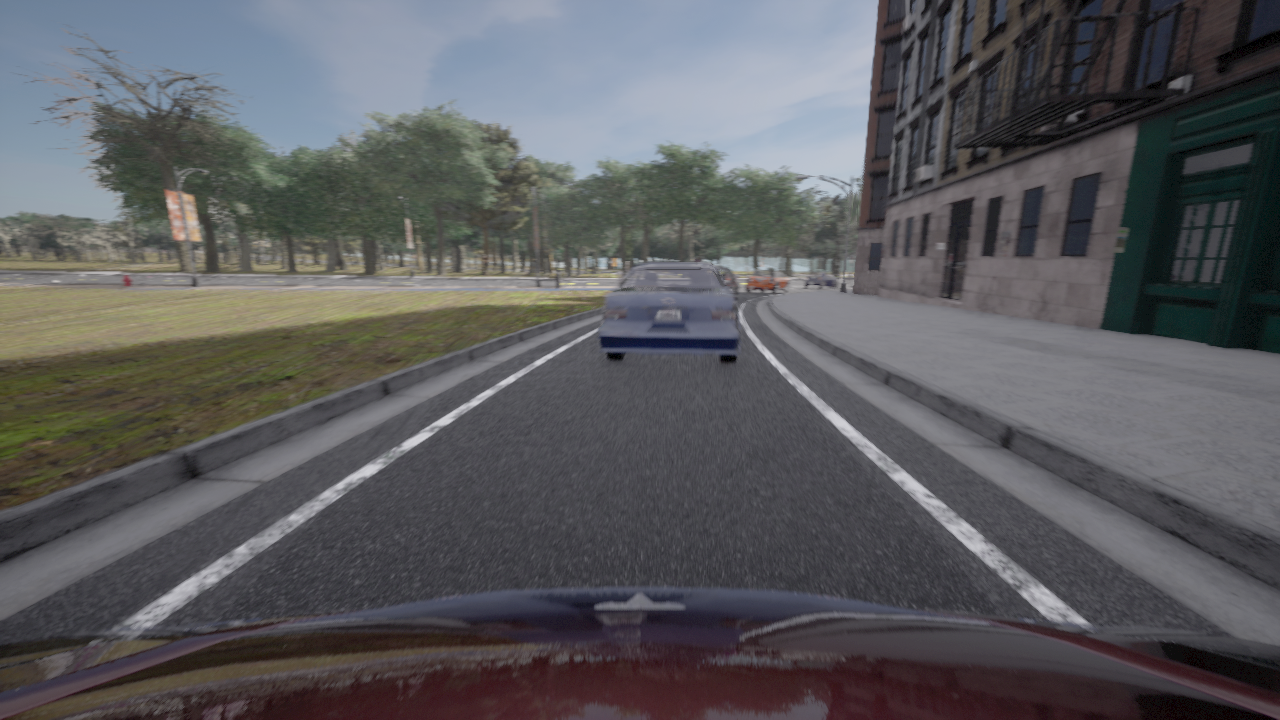cyclist: (0, 588, 1279, 719), (598, 262, 742, 363), (746, 268, 789, 293), (715, 266, 738, 300), (804, 272, 837, 289)
pedestrian: (483, 254, 487, 272)
